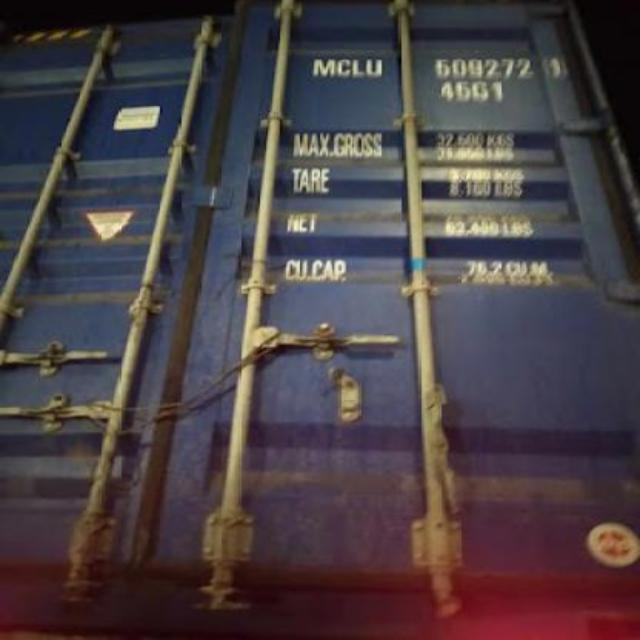0: (452, 58, 468, 78)
2: (514, 56, 536, 80), (486, 56, 502, 78)
3: (546, 56, 564, 80)
5: (432, 56, 452, 78)
7: (498, 54, 518, 80)
9: (468, 56, 484, 80)
C: (336, 58, 352, 78)
L: (352, 56, 366, 80)
M: (312, 56, 336, 78)
U: (366, 56, 384, 80)
